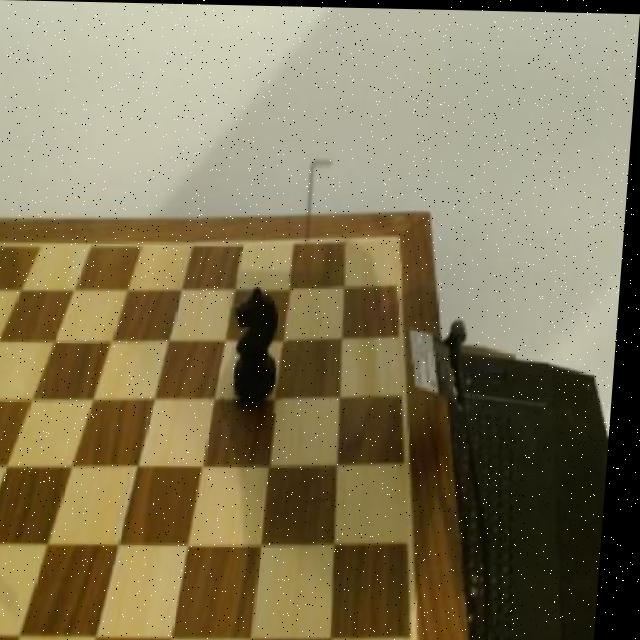black-king: (227, 278, 296, 413)
